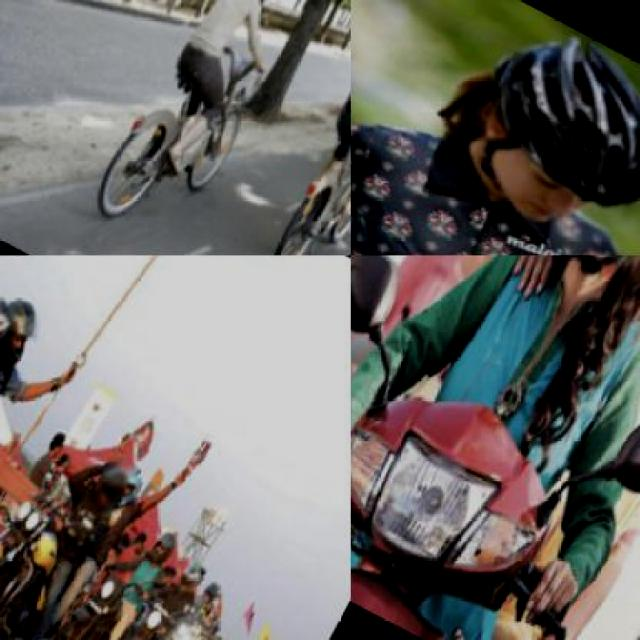With Helmet: (422, 0, 638, 254), (0, 288, 51, 370), (86, 452, 140, 520), (0, 277, 25, 371), (146, 522, 188, 570), (174, 550, 211, 599)
